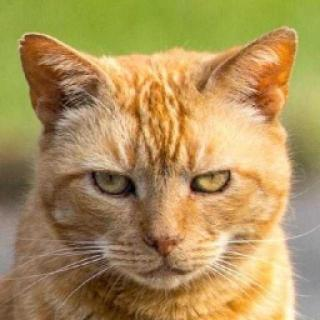cat: (17, 24, 297, 296)
nose: (144, 216, 186, 262)
